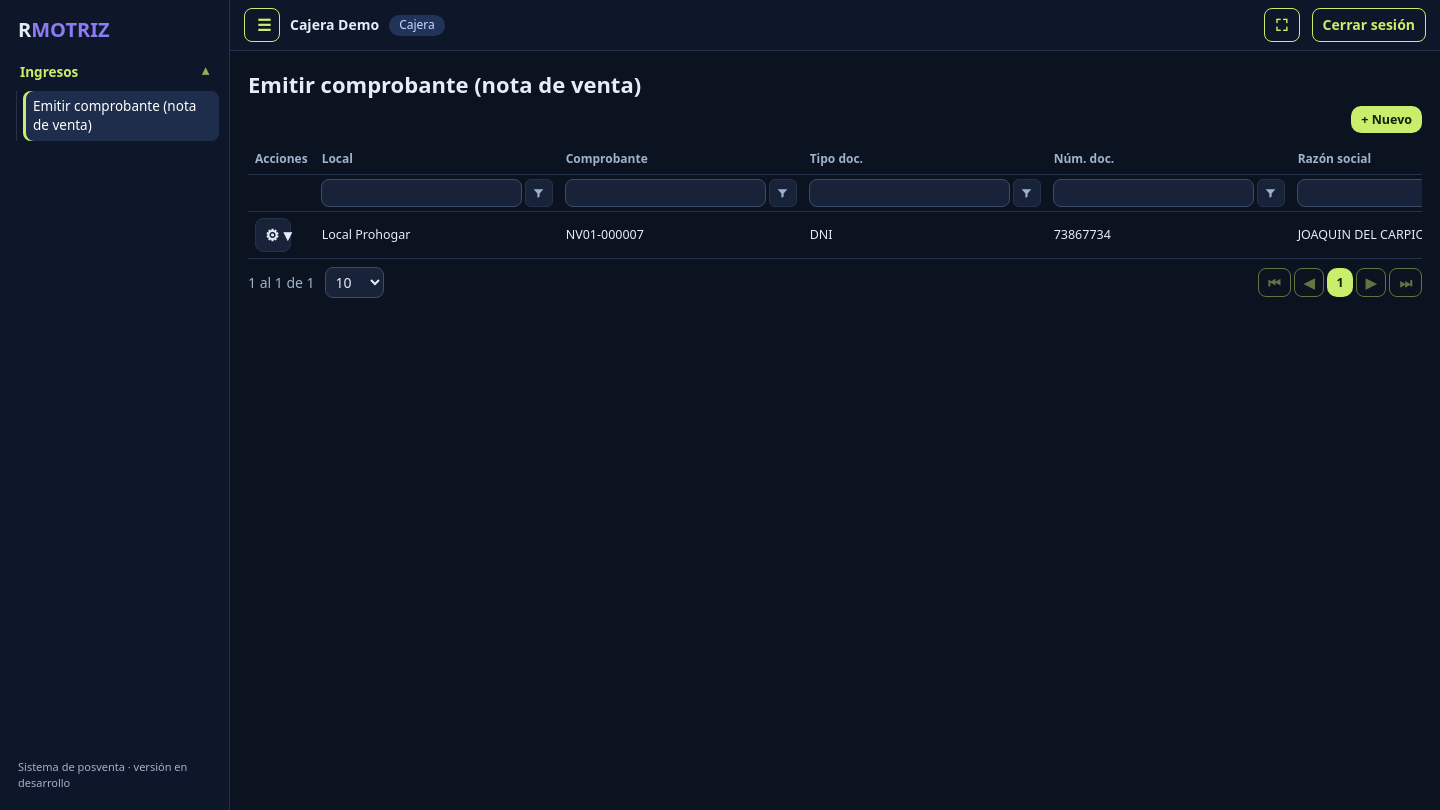
Test: Comprobantes: lista solo las notas vigentes, con usuario, y el menú ofrece Ver, Ticket, PDF, Duplicar y Eliminar (con motivo en un modal propio)
The image size is (1440, 810).
Expected: the text "73867734" is shown, [1047,212,1291,259]
Click the button named "Acciones": (273, 235) [255,218,291,252]
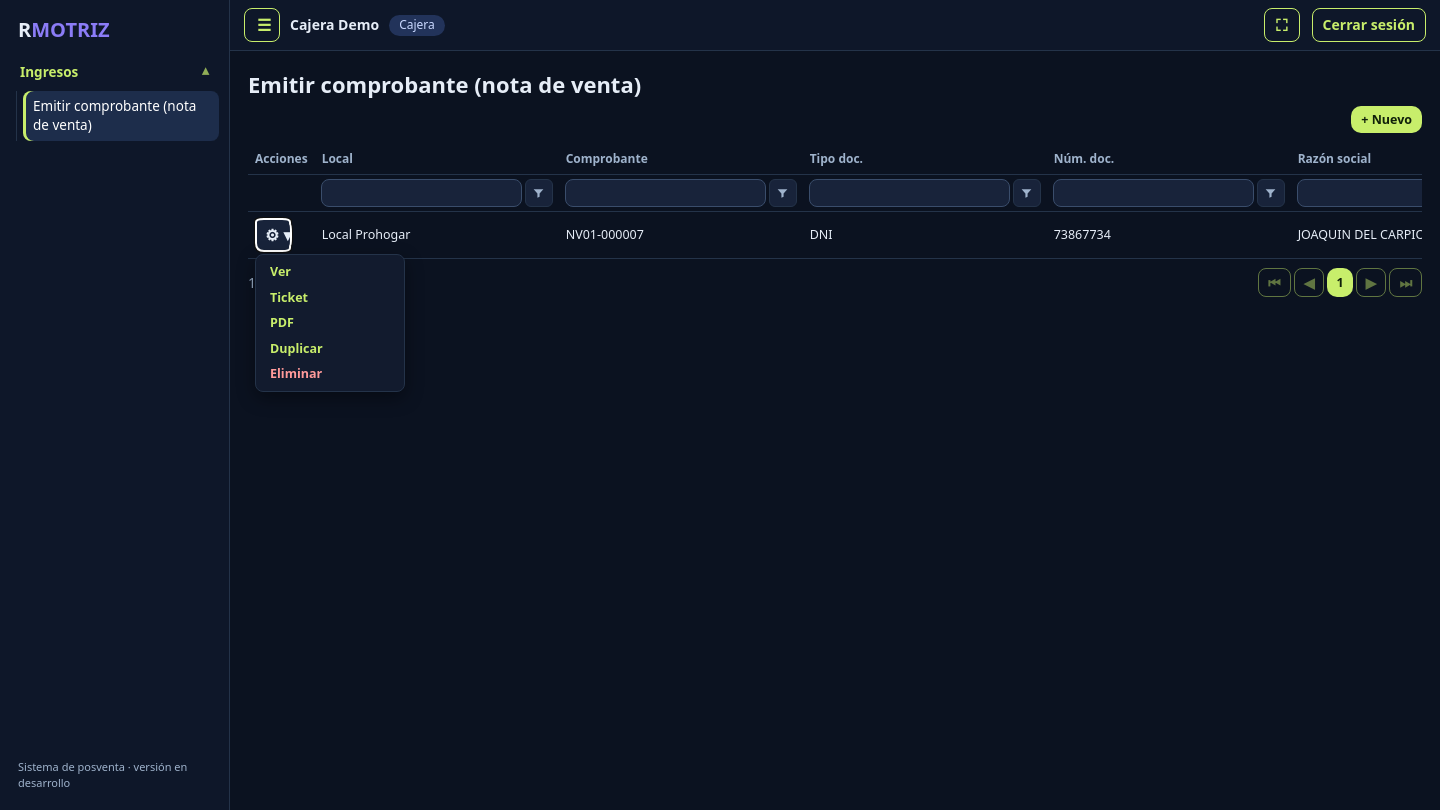
Expected: the button "Ver" is shown, [260,259,396,285]
Expected: the button "Ticket" is shown, [260,285,396,310]
Expected: the button "PDF" is shown, [260,310,396,336]
Click the button "Eliminar": (328, 374) [260,361,396,387]
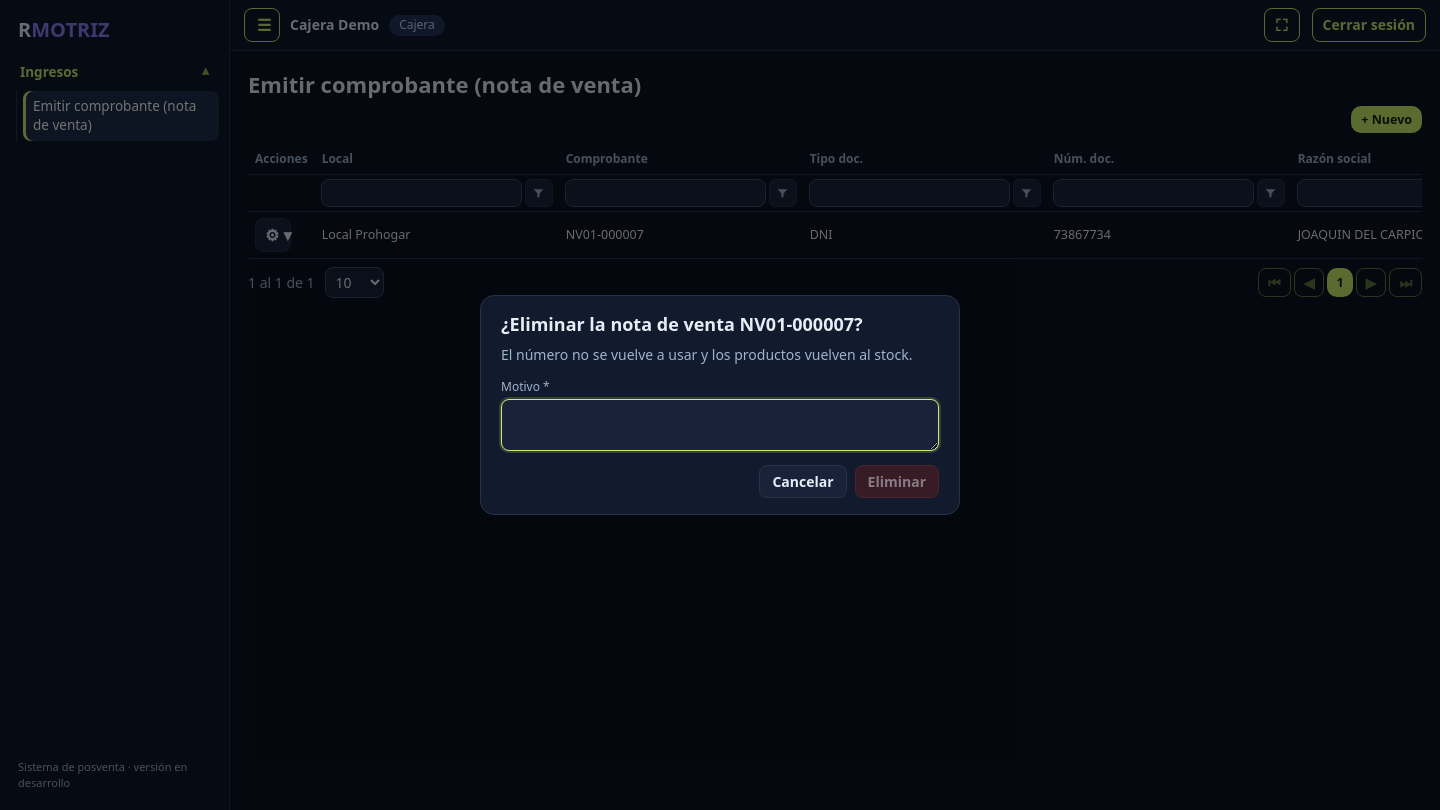
Expected: the button "Eliminar" is disabled, [855,465,939,498]
In the text box labelled "Motivo *": (720, 425) [501,399,939,451], type "Error de digitación"
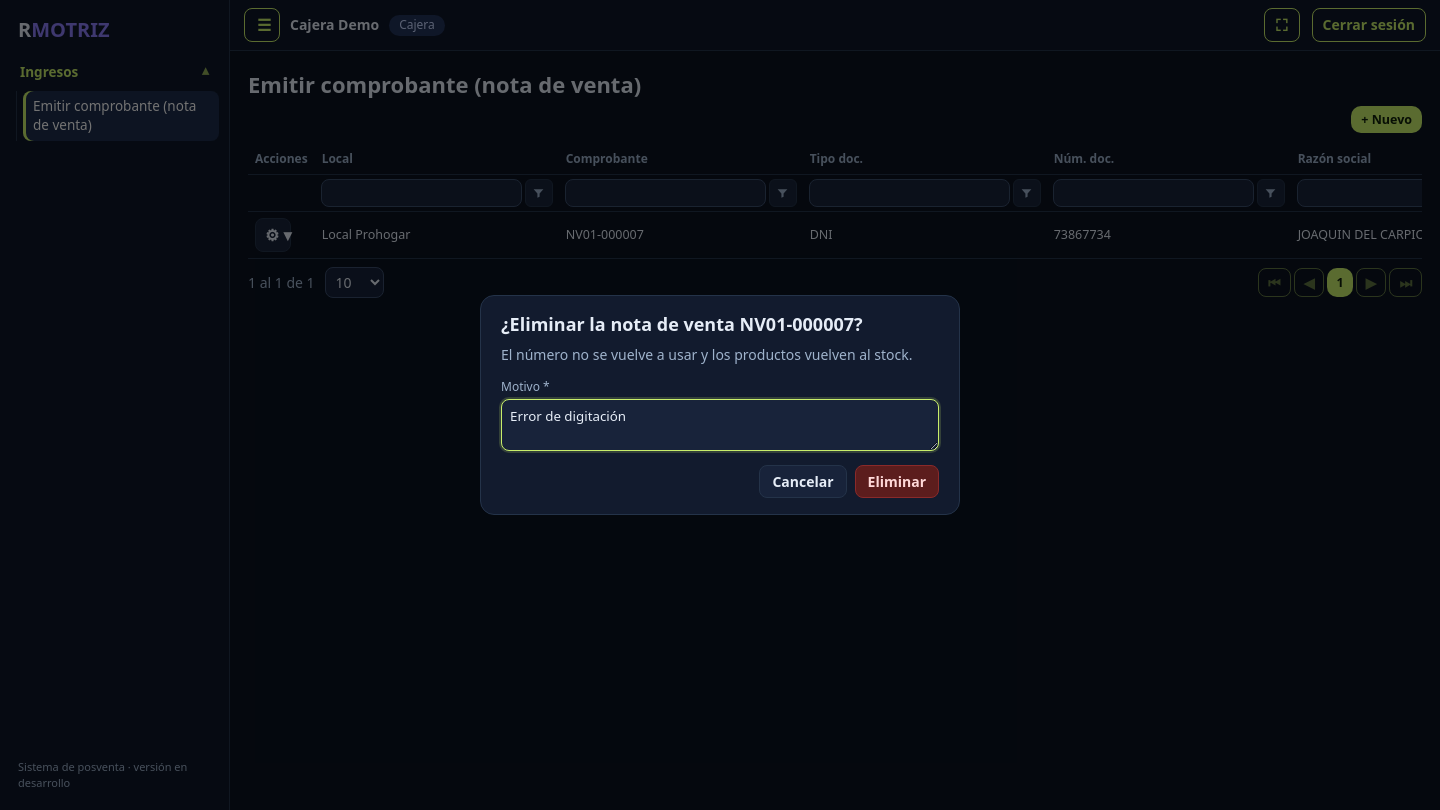
Click the button "Eliminar": (897, 482) [855,465,939,498]
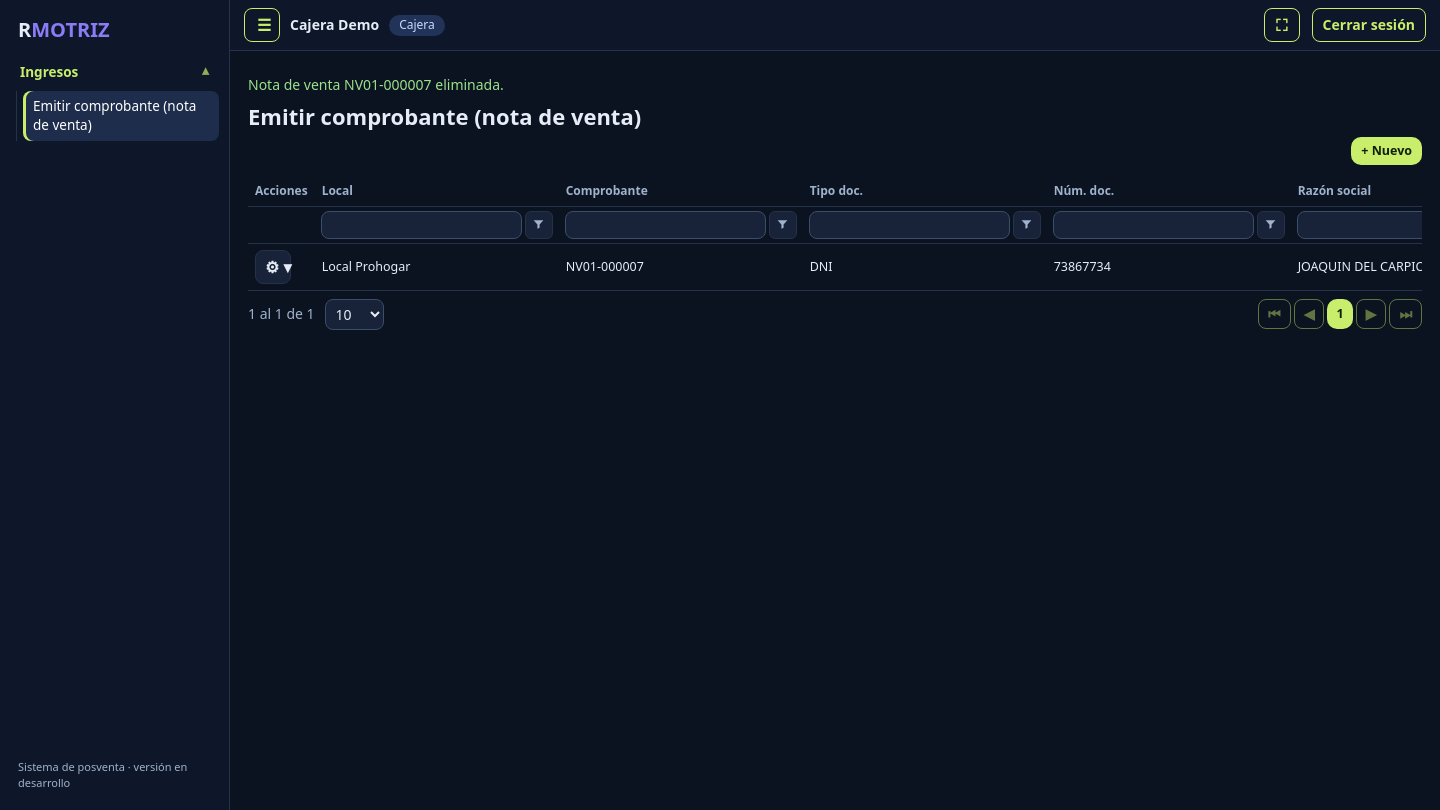
Expected: the text "Nota de venta NV01-000007 eliminada." is shown, [248,75,504,94]
